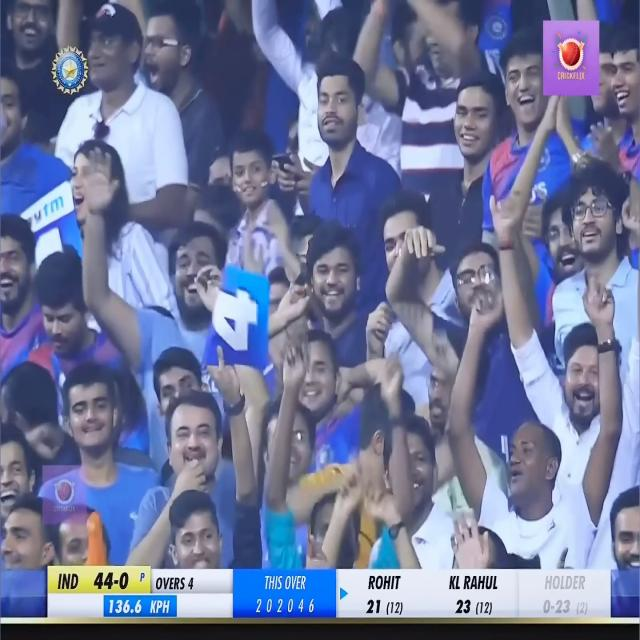partially_visible: (19, 184, 80, 232)
